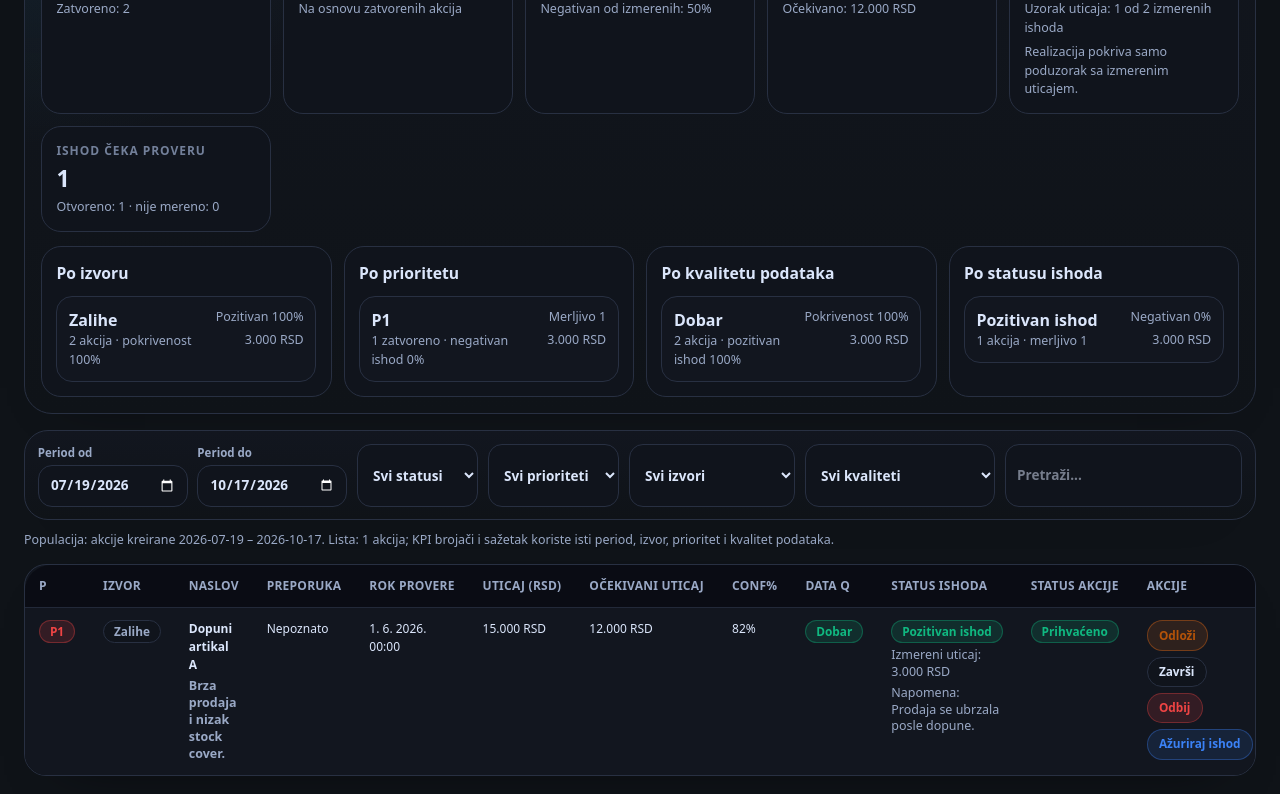
Test: AnalyticsActionsPage › does not keep previous-filter KPI counts after a failed counts reload (RQ652)
The width and height of the screenshot is (1280, 794).
(page scrolled)
Select "Dobavljači" in the dropdown named "Filter po izvoru" at (712, 475), box [629, 444, 795, 507]
(page scrolled)
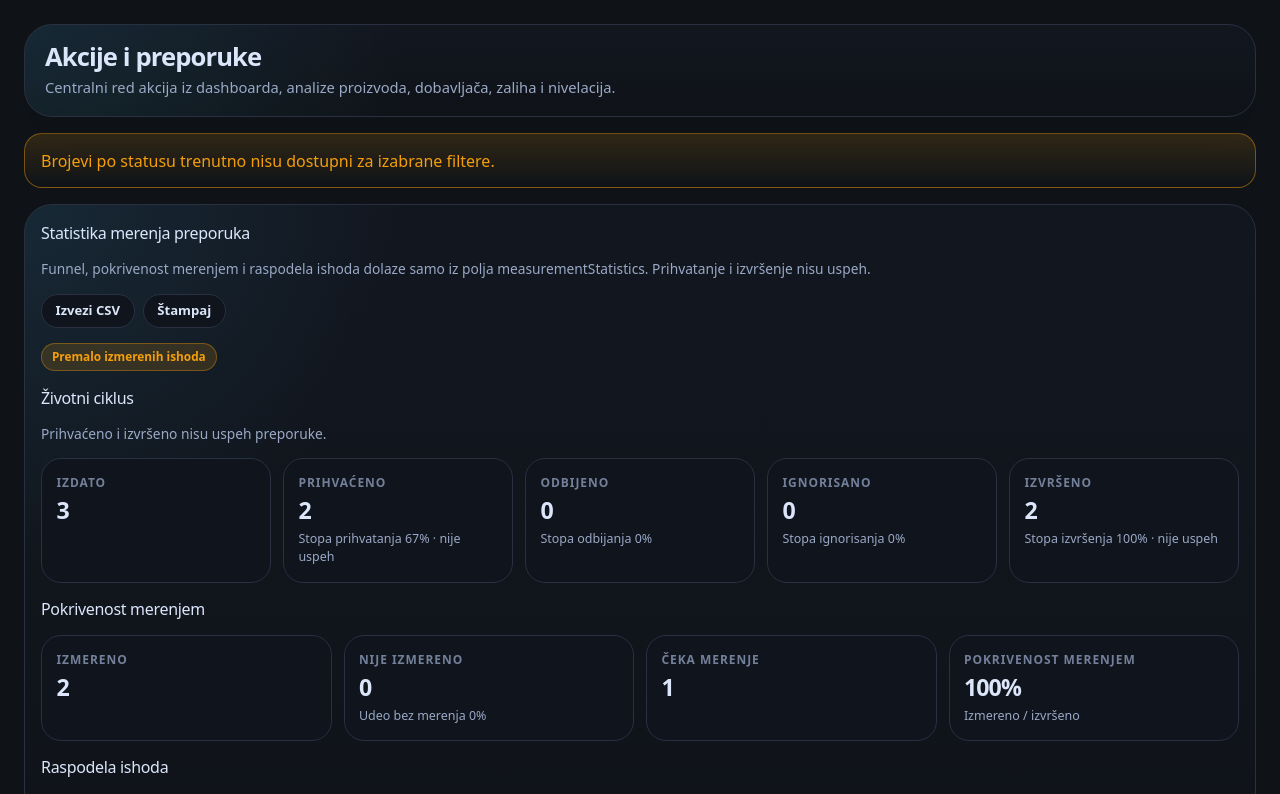
Expected: the text "Brojevi po statusu trenutno nisu dostupni za izabrane filtere." is shown, [24, 133, 1256, 188]
